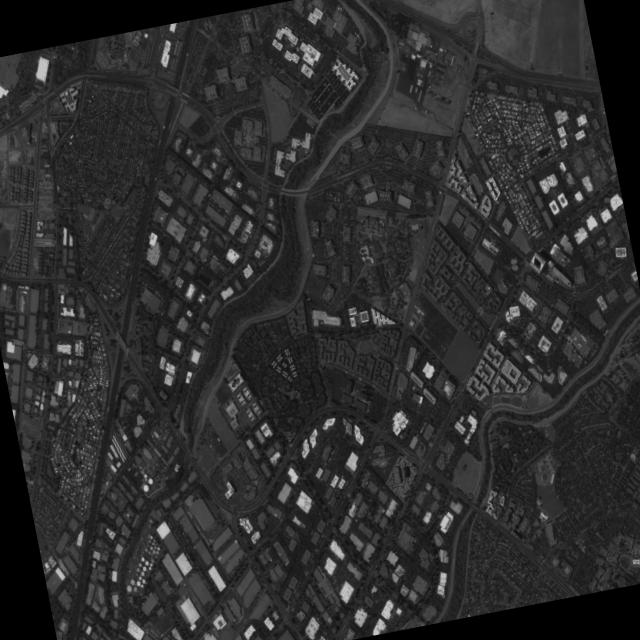storage-tank: (141, 483, 150, 492), (125, 584, 132, 592), (128, 578, 135, 585), (147, 477, 153, 484), (132, 585, 138, 592), (142, 472, 148, 478), (140, 578, 146, 584), (141, 565, 147, 571), (143, 559, 149, 565), (135, 579, 140, 586), (139, 556, 145, 561), (155, 545, 160, 550), (148, 545, 153, 550), (143, 546, 148, 551), (148, 534, 153, 539), (139, 571, 144, 576), (150, 557, 155, 562), (135, 567, 140, 572), (137, 562, 142, 567), (148, 562, 153, 567), (152, 545, 157, 549), (150, 541, 155, 545), (140, 469, 144, 474), (151, 549, 155, 554), (137, 575, 141, 580), (139, 583, 143, 588), (147, 539, 151, 543), (147, 550, 151, 554), (155, 550, 159, 554), (134, 572, 138, 576), (147, 566, 151, 570), (152, 538, 156, 541), (143, 477, 146, 481), (138, 465, 141, 468)
